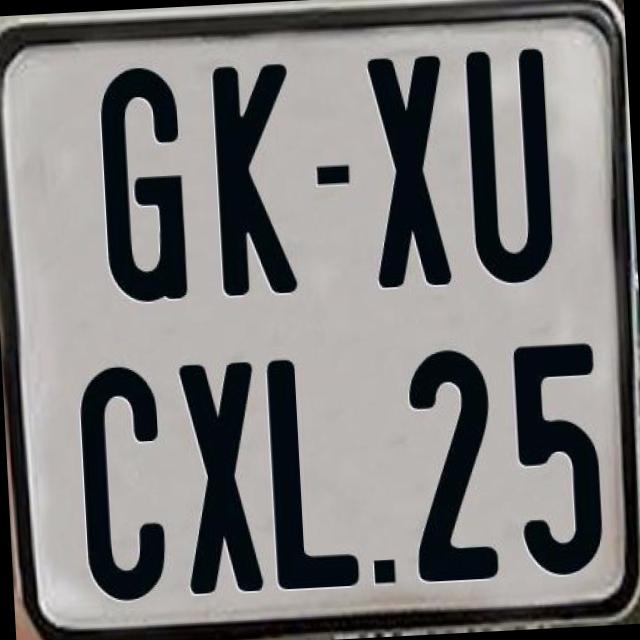2: (404, 347, 496, 584)
5: (510, 342, 604, 580)
C: (78, 362, 174, 606)
G: (94, 61, 186, 307)
K: (209, 62, 300, 301)
L: (262, 354, 361, 586)
U: (462, 48, 554, 286)
X: (368, 50, 458, 294), (177, 362, 263, 600)
